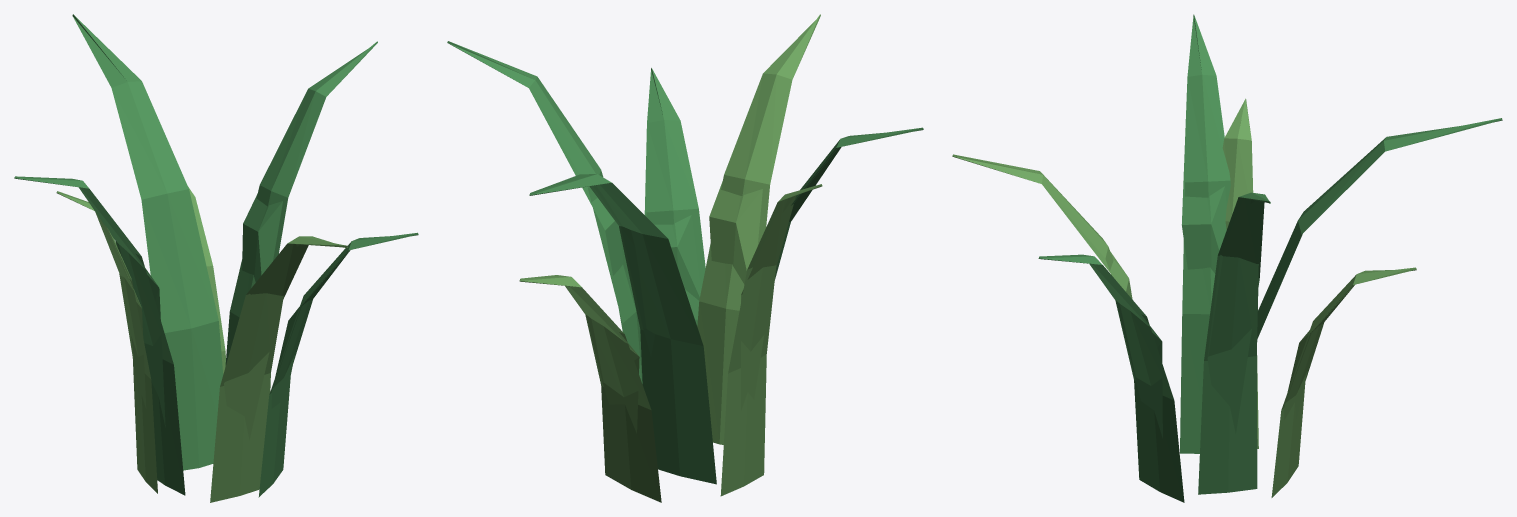
The model's file is grass_a.glb.
The picture shows the model from 3 angles, left to right: view 1: azimuth 30°, elevation 25°; view 2: azimuth 150°, elevation 25°; view 3: azimuth 270°, elevation 25°; orthographic projection. The views are drawn at different scales.
Parts seen in each view (by area): view 1: leaf_nl, body__far; view 2: leaf_nl, body__far; view 3: leaf_nl, body__far.
Boxes of the visible parts, bbox=[...] form: leaf_nl: bbox=[14, 14, 418, 502]; body__far: bbox=[19, 18, 390, 439]; leaf_nl: bbox=[447, 14, 923, 502]; body__far: bbox=[451, 21, 884, 433]; leaf_nl: bbox=[952, 14, 1502, 502]; body__far: bbox=[957, 17, 1459, 438].
Bounding box in the file's own units: 4.85 × 4.21 × 5.69.
